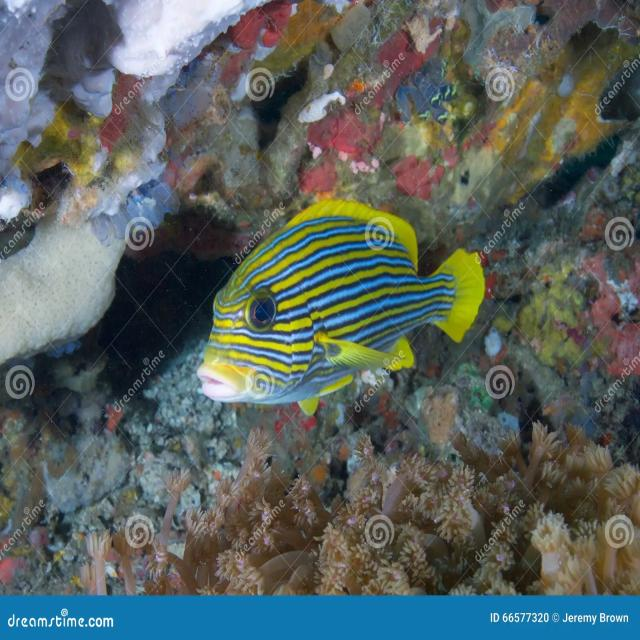RibbonedSweetlips: (195, 196, 487, 414)
